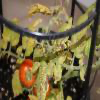Tomato leaf bacterial spot: (68, 13, 88, 61), (53, 15, 75, 54), (36, 58, 56, 98), (32, 44, 45, 72), (54, 63, 63, 84)
